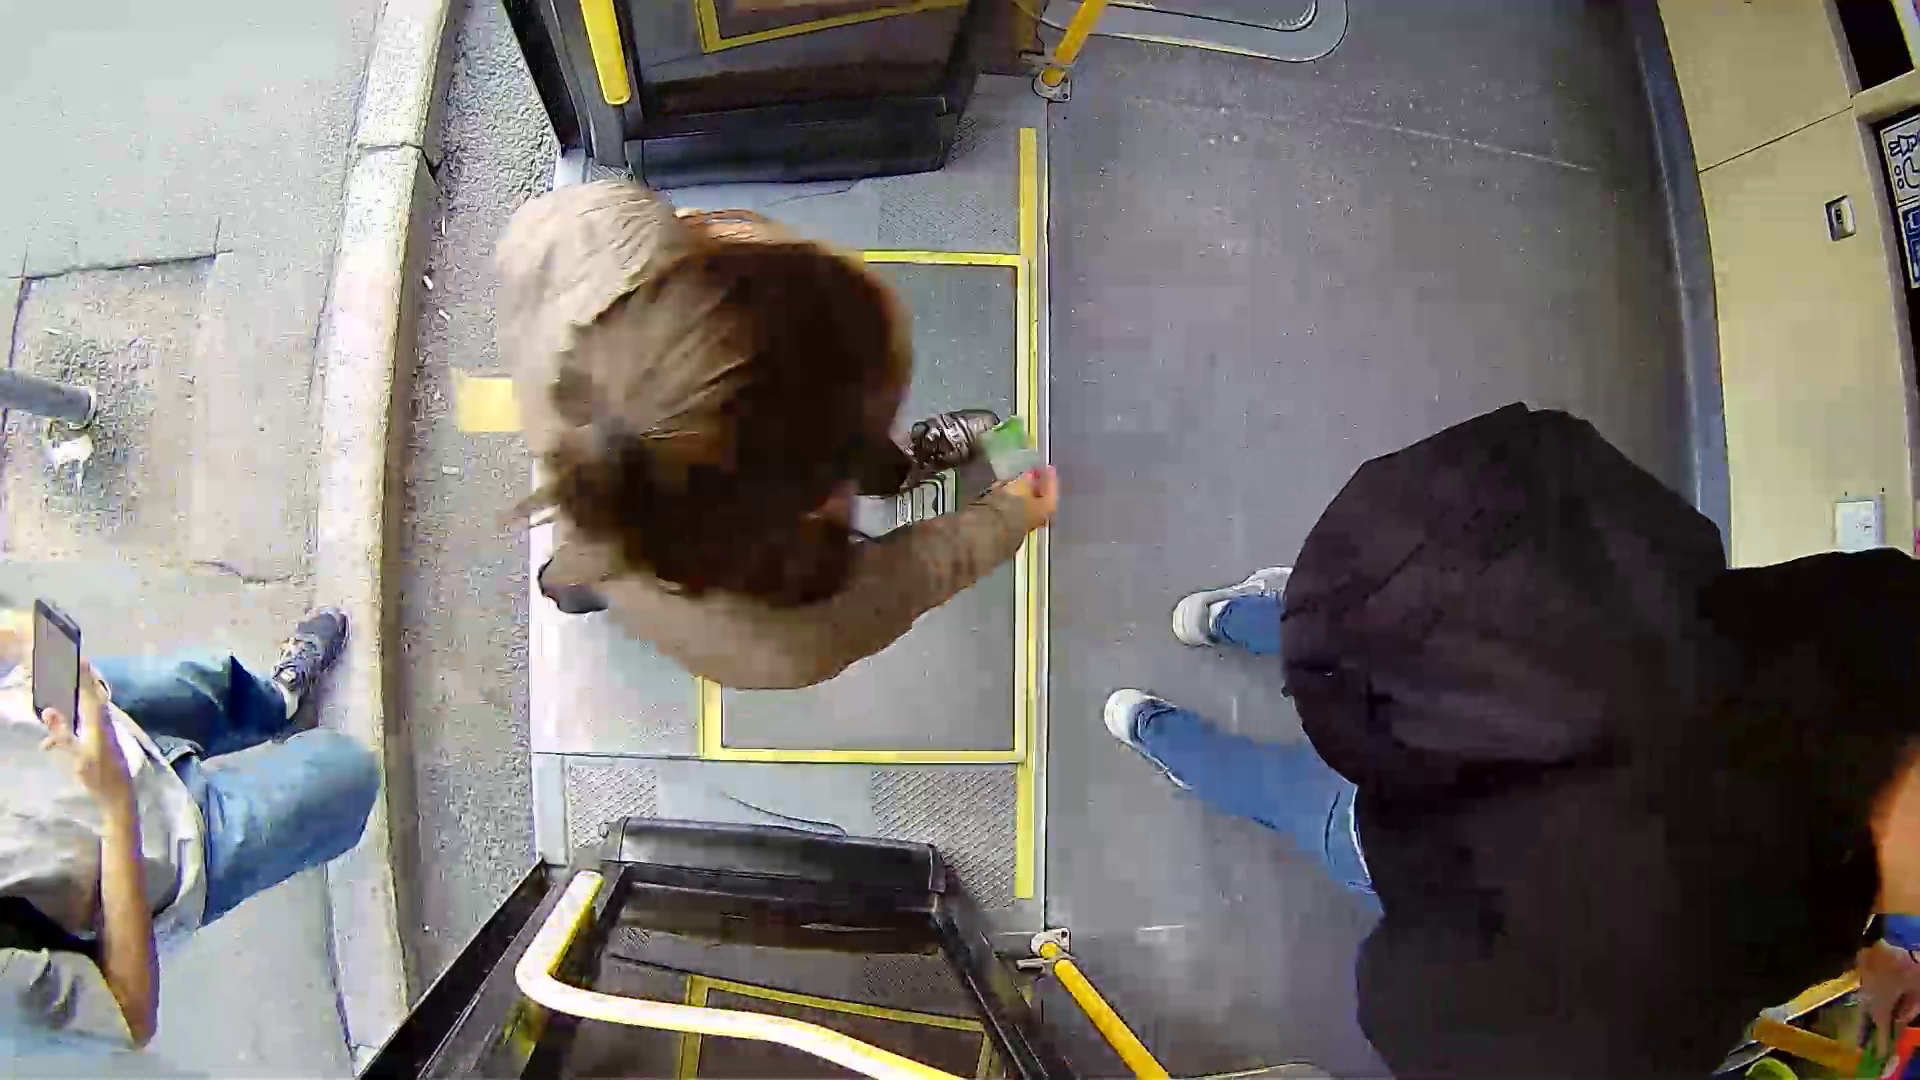person: (483, 165, 1146, 736)
